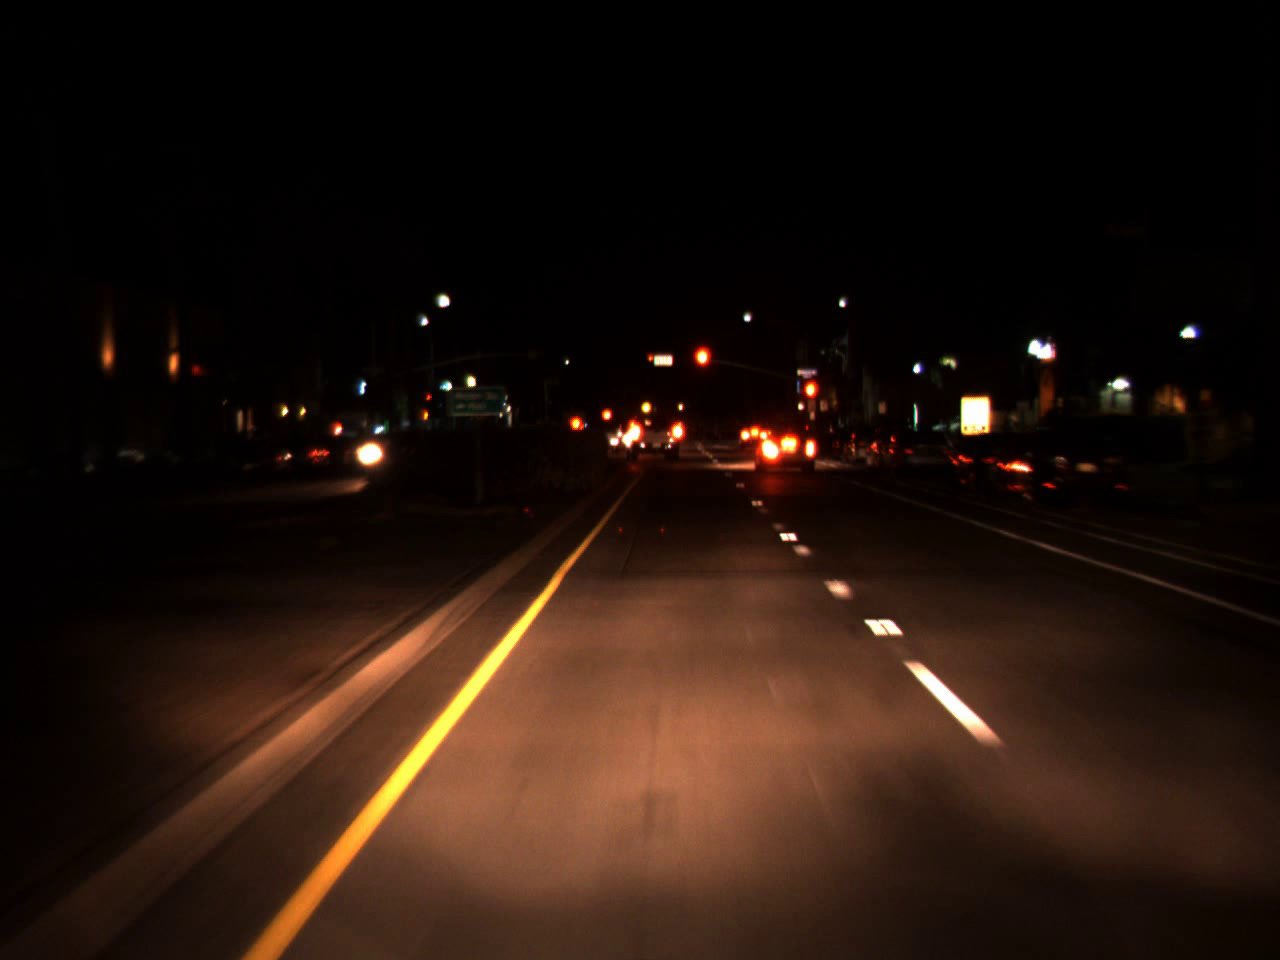stop: (691, 343, 713, 391), (800, 378, 821, 421), (426, 393, 432, 406), (647, 355, 654, 365)
